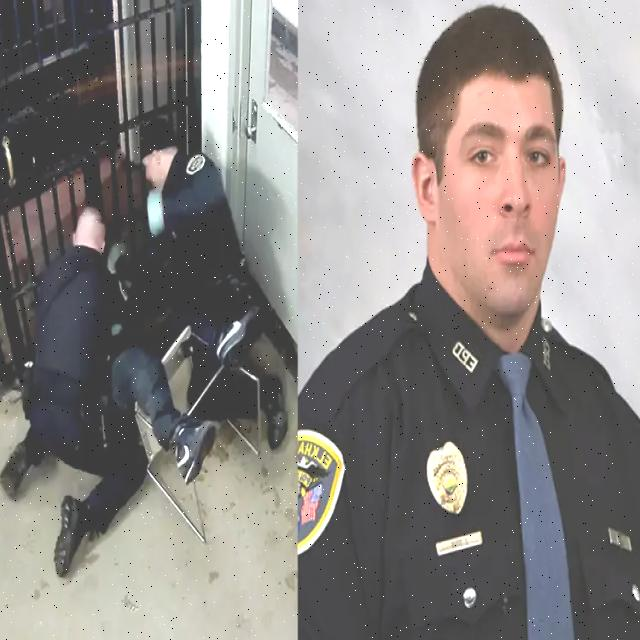police: (276, 0, 640, 640)
